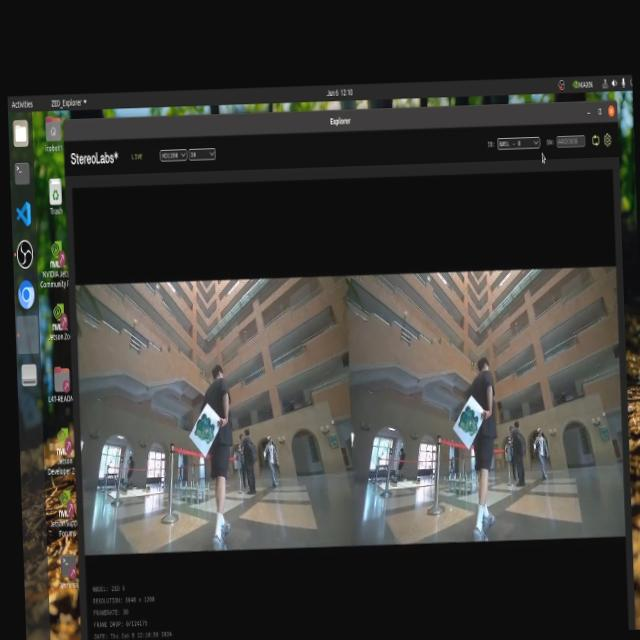green: (451, 406, 487, 442), (185, 411, 214, 442)
